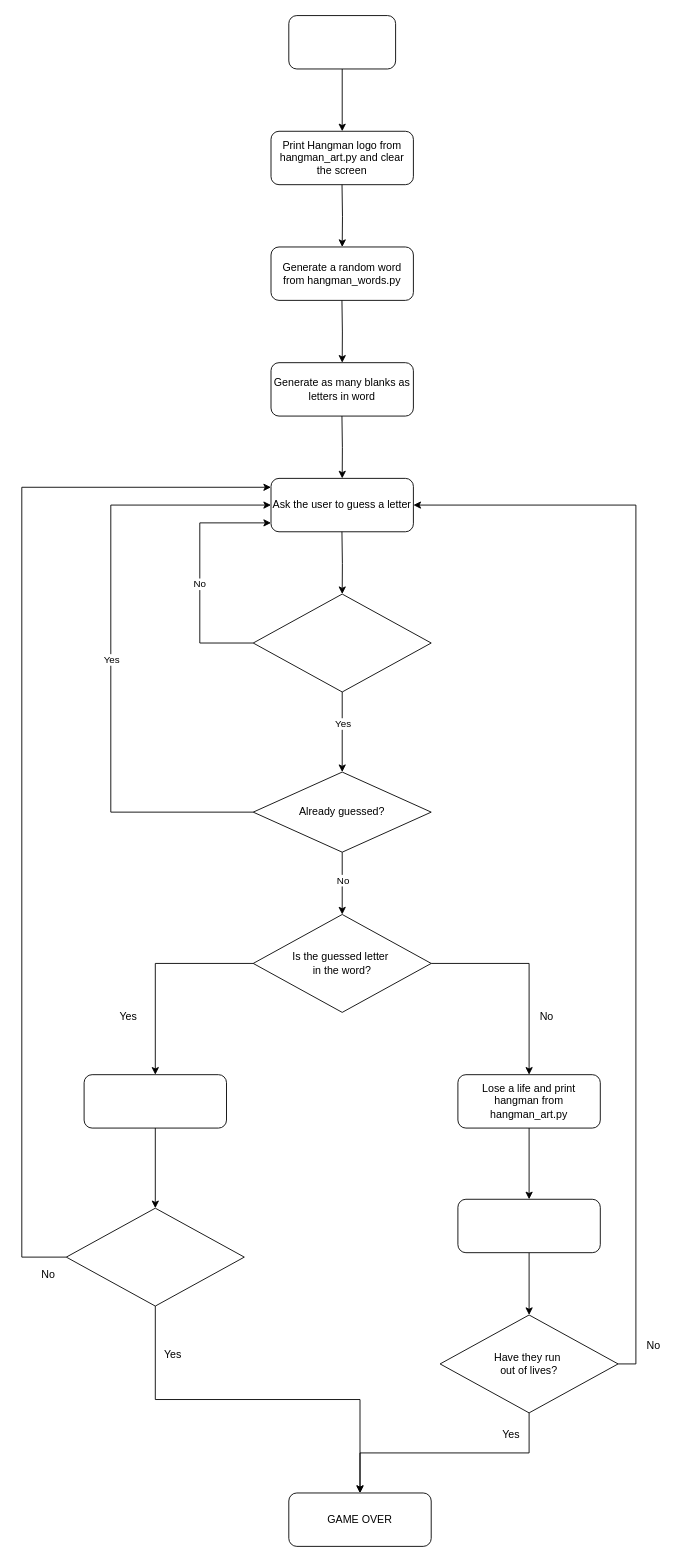
Image size: 696x1562. Some labels were removed from this diagram. Each missing label, with the centre of its shape:
"Are all the blanks filled?" goes at (x=154, y=1256).
"Is input valid? (Single letter & Alphabet)" goes at (x=341, y=642).
"Replace the blank with the letter" goes at (x=155, y=1101).
"START" goes at (x=342, y=42).
"Tell the user the letter they chose is not in the word" goes at (x=528, y=1225).
